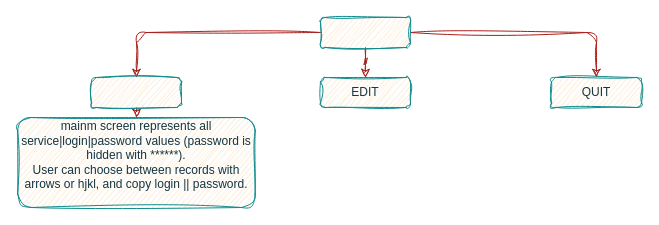
The diagram is 659 pixels wide and 225 high, and some of its shapes have lost their labels. The shapes that lost their labels are listed below. From the top down, each one's box as (x1, y1, x2, y2) in pixels, then its label:
(320, 16, 410, 48): screen
(90, 76, 182, 108): MAIN
